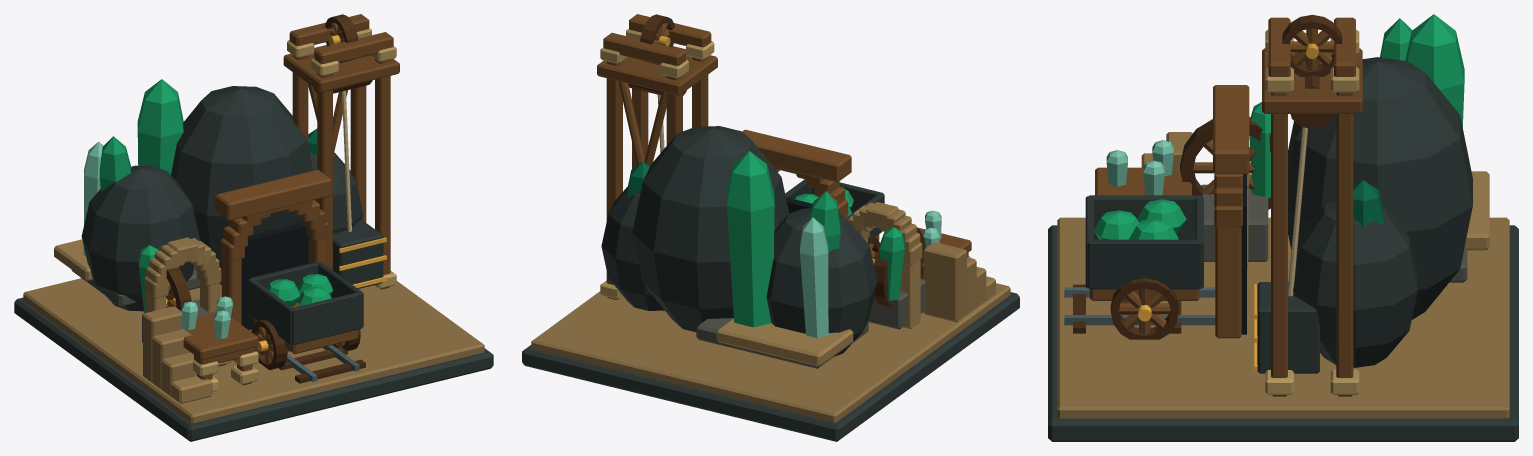
3 views of the same model, side by side, from view 1: azimuth 30°, elevation 25°; view 2: azimuth 150°, elevation 25°; view 3: azimuth 270°, elevation 25° (orthographic). The views are drawn at different scales.
Visible parts, largest first — view 1: gem_mine_9_structure, gem_mine_9_metal; view 2: gem_mine_9_structure; view 3: gem_mine_9_structure, gem_mine_9_metal.
Part boxes in pixels (box(x1,y1,x2,y2)): gem_mine_9_structure: box(14, 14, 493, 441); gem_mine_9_metal: box(166, 35, 386, 351); gem_mine_9_structure: box(522, 14, 1019, 441); gem_mine_9_structure: box(1048, 14, 1518, 441); gem_mine_9_metal: box(1138, 43, 1318, 371).
Bounding box in the file's own units: 3.6 × 3.29 × 3.6.
